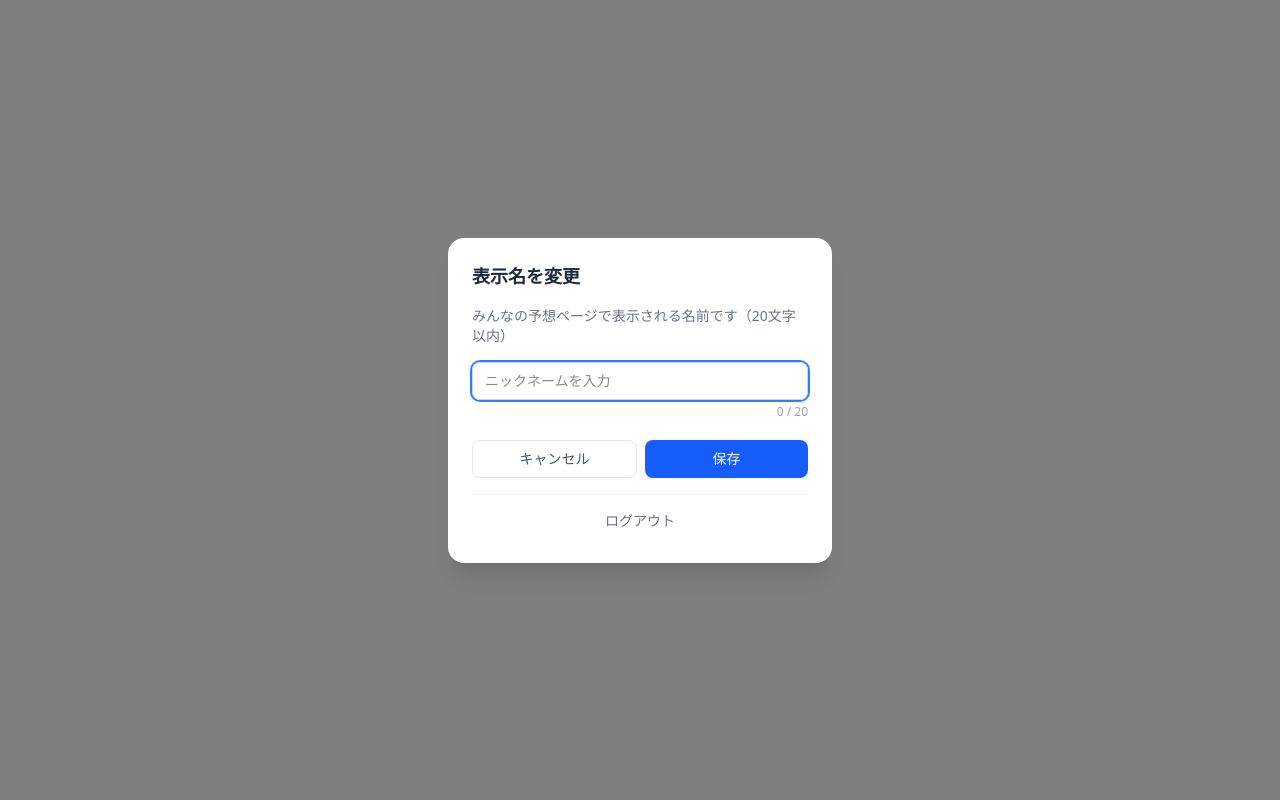
ProfileModal — ログアウトボタン › 保存中はログアウトボタンが disabled になる
In the field with placeholder "ニックネームを入力": (640, 380) [472, 362, 808, 400], type "テスト"
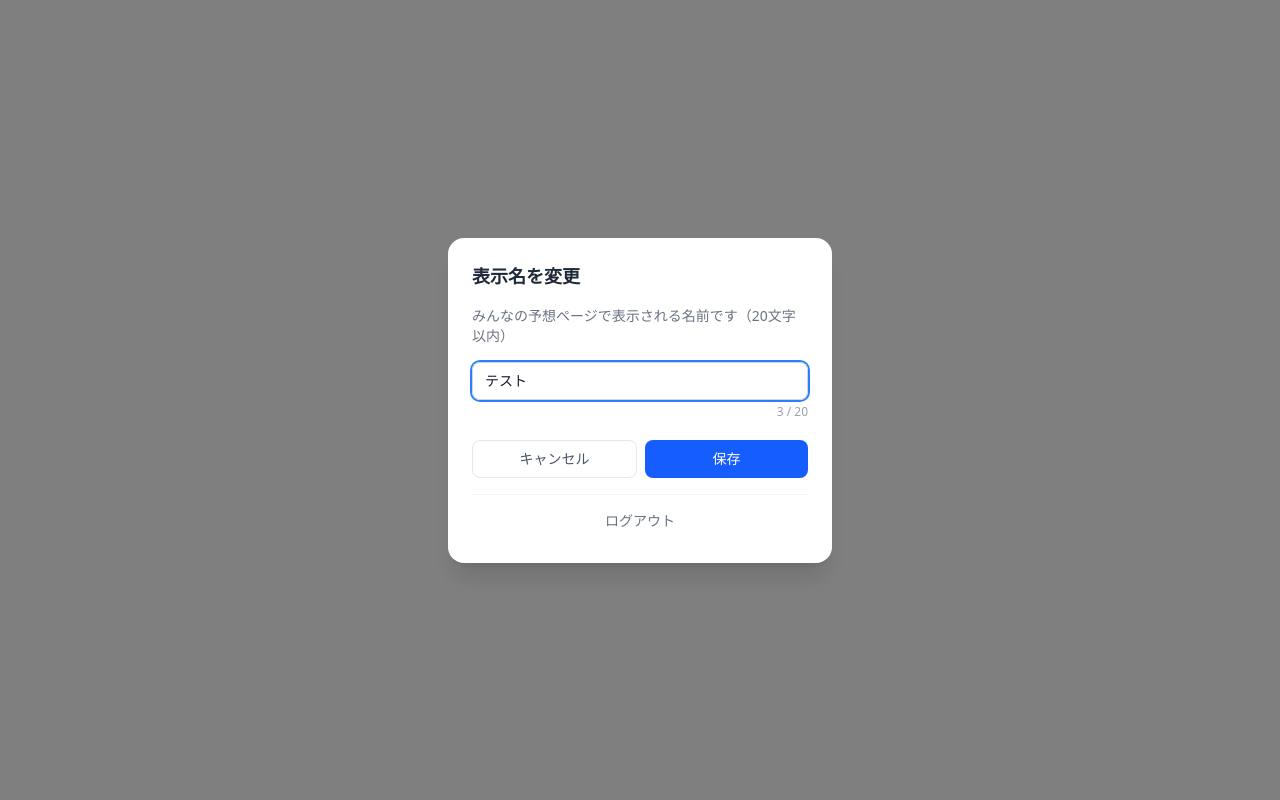
Click the button "保存": (726, 458) [645, 440, 808, 478]
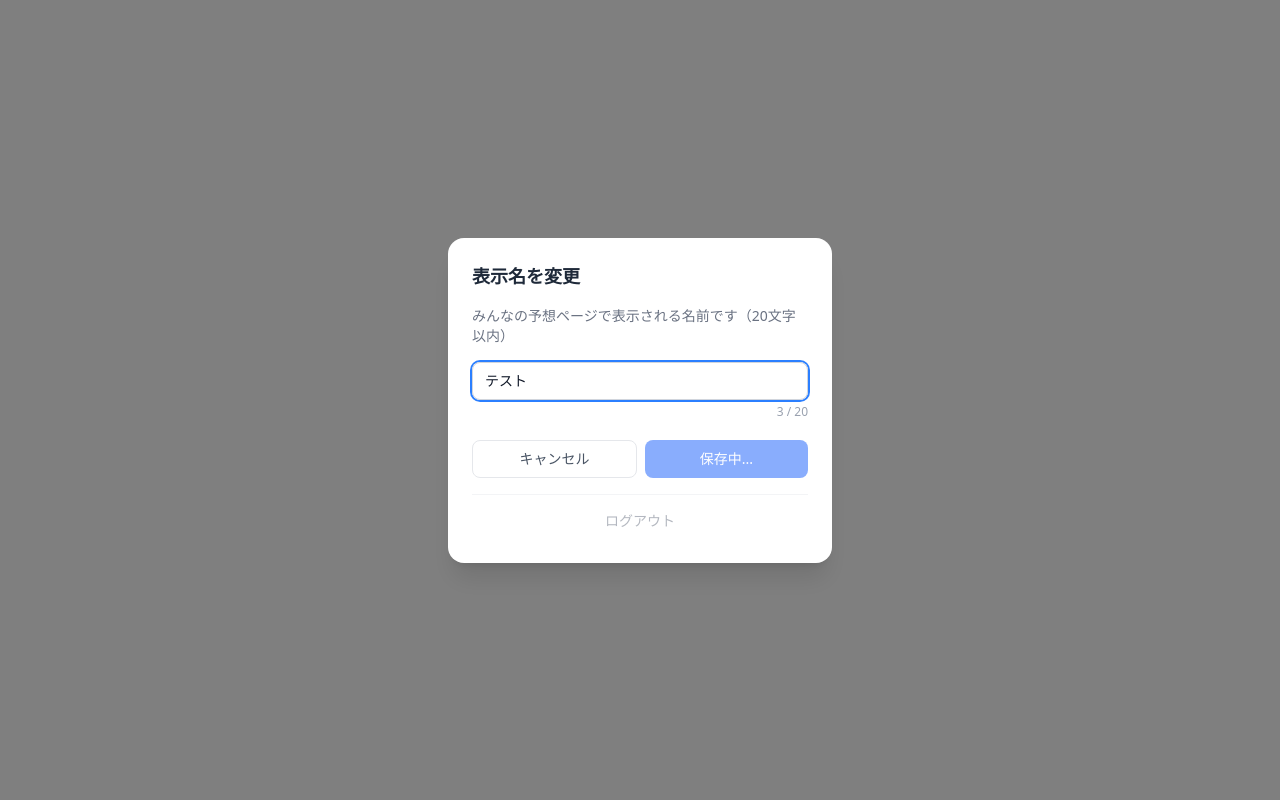
Expected: the button "ログアウト" is disabled, [472, 502, 808, 538]
